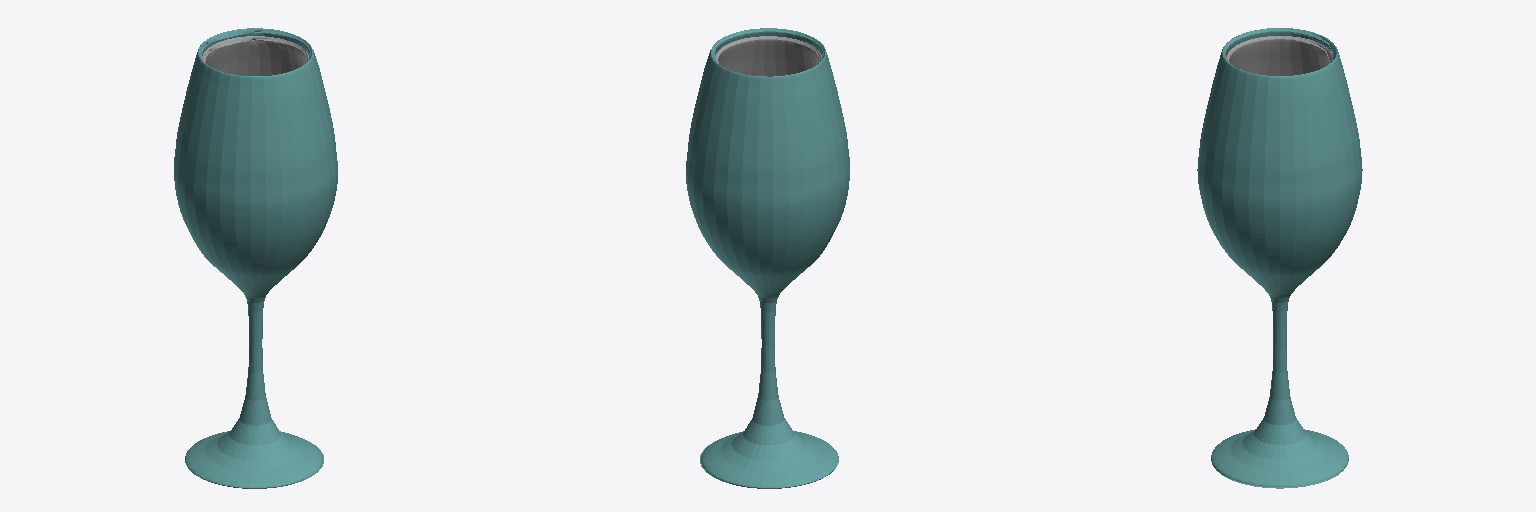
Rendered from glass.obj.
The picture shows the model from 3 angles: view 1: azimuth 30°, elevation 25°; view 2: azimuth 150°, elevation 25°; view 3: azimuth 270°, elevation 25°; orthographic projection.
Visible parts, largest first — view 1: glass_Circle; view 2: glass_Circle; view 3: glass_Circle.
Boxes of the visible parts, x1=… form: glass_Circle: x1=174, y1=28, x2=337, y2=488; glass_Circle: x1=686, y1=28, x2=849, y2=488; glass_Circle: x1=1197, y1=28, x2=1362, y2=488.
Bounding box in the file's own units: 0.4555 × 1.24 × 0.4555.